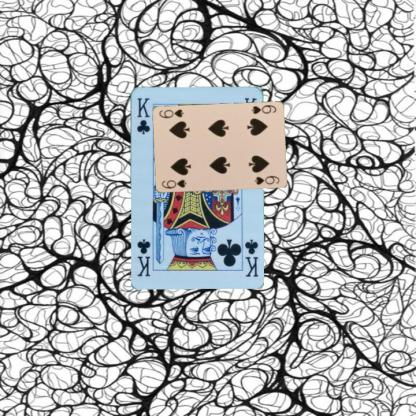6s: (159, 177, 187, 190), (249, 102, 277, 115)
Kc: (241, 236, 259, 278), (134, 96, 151, 136)
